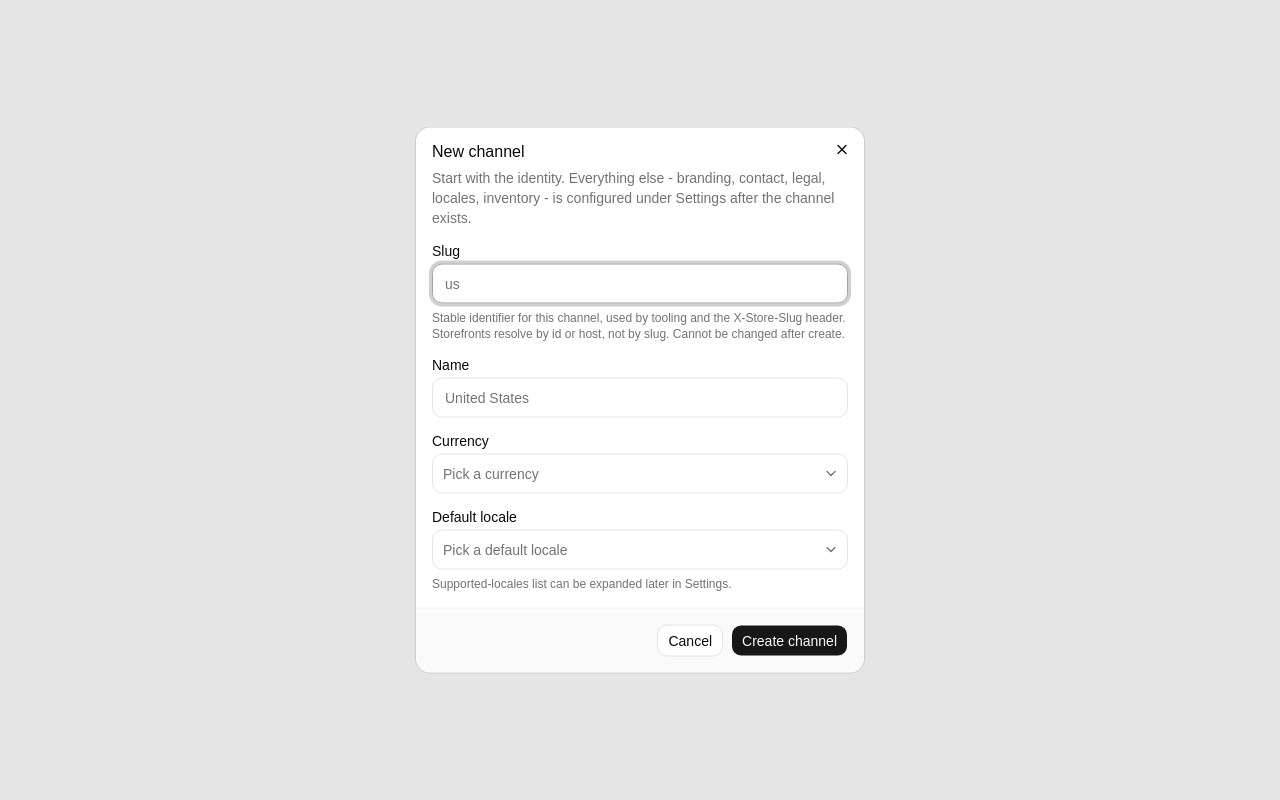
NewChannelDialog › shows what is missing instead of one generic error
The image size is (1280, 800).
Type "US Store" into the field labelled "Slug".
click(640, 284); type("US Store")  # box [432,264,848,304]
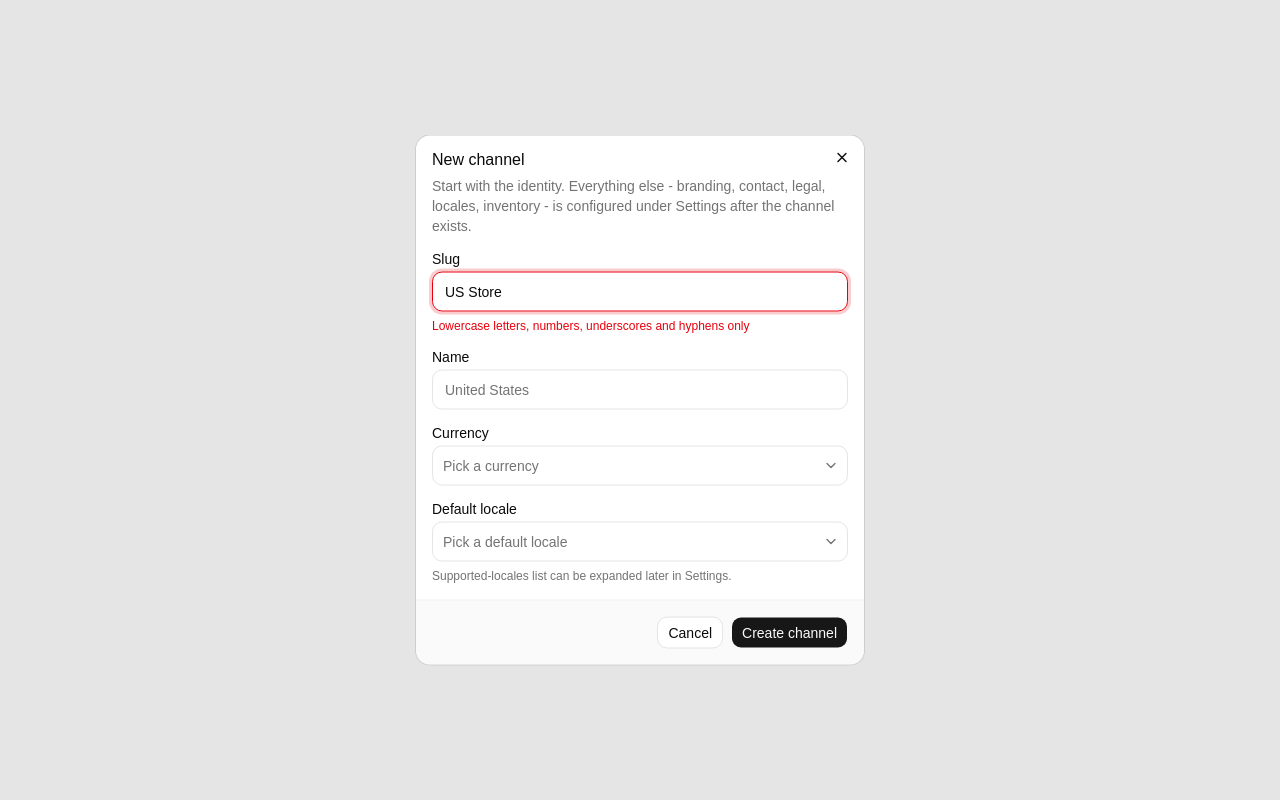
Click the button "Create channel".
click(790, 632)  # box [731,616,848,648]
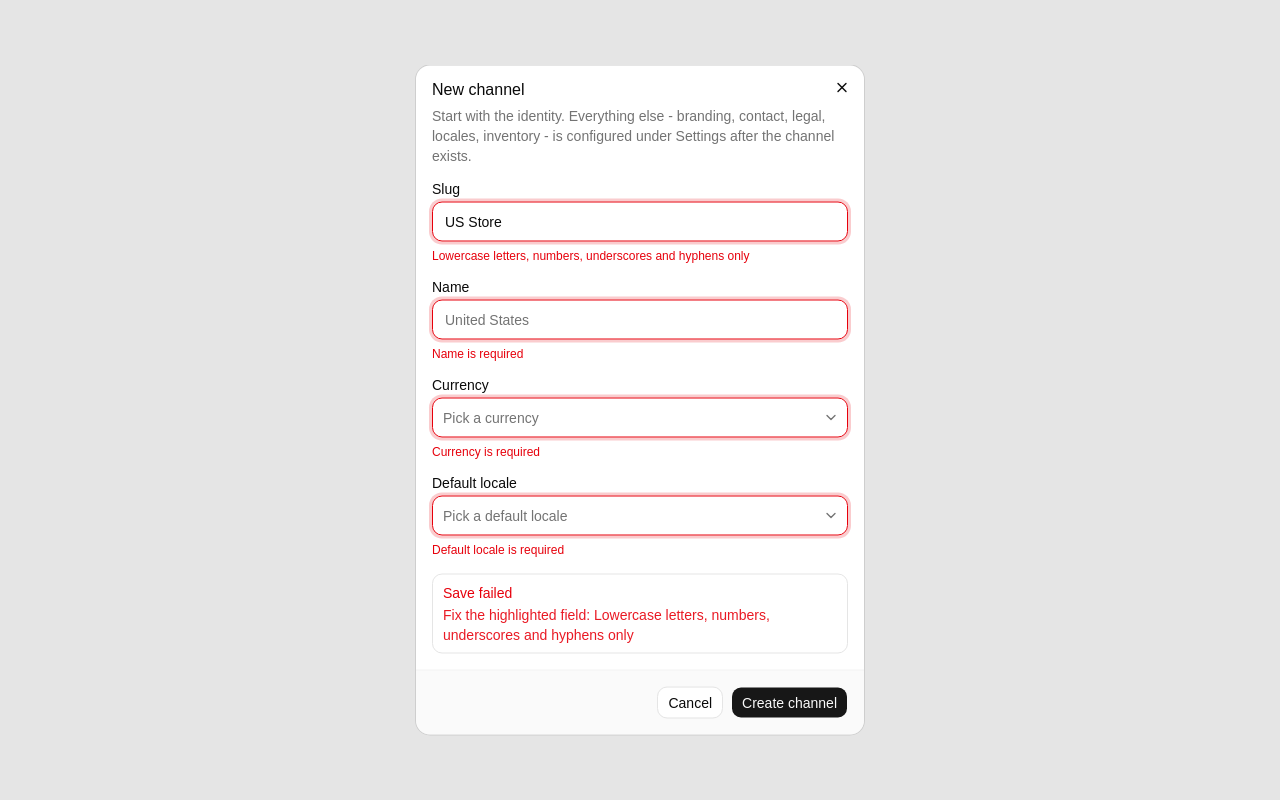
Result: the text "Lowercase letters, numbers, underscores and hyphens only" is shown at [432,248,750,262]
Result: the text "Name is required" is shown at [432,346,523,360]
Result: the text "Currency is required" is shown at [432,444,540,458]
